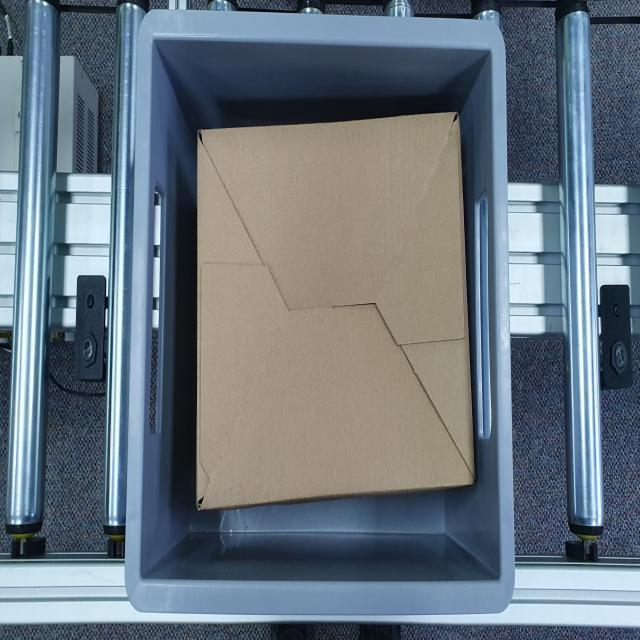box: (197, 125, 476, 493)
